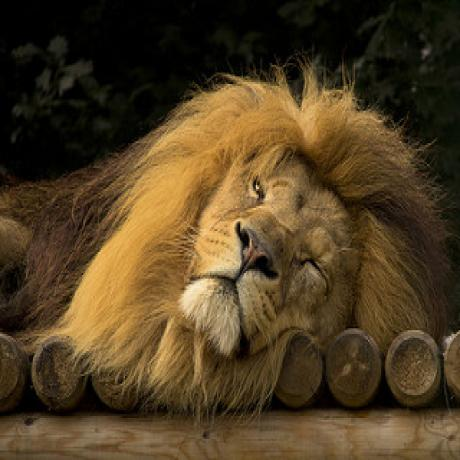Lion: (0, 71, 447, 395)
